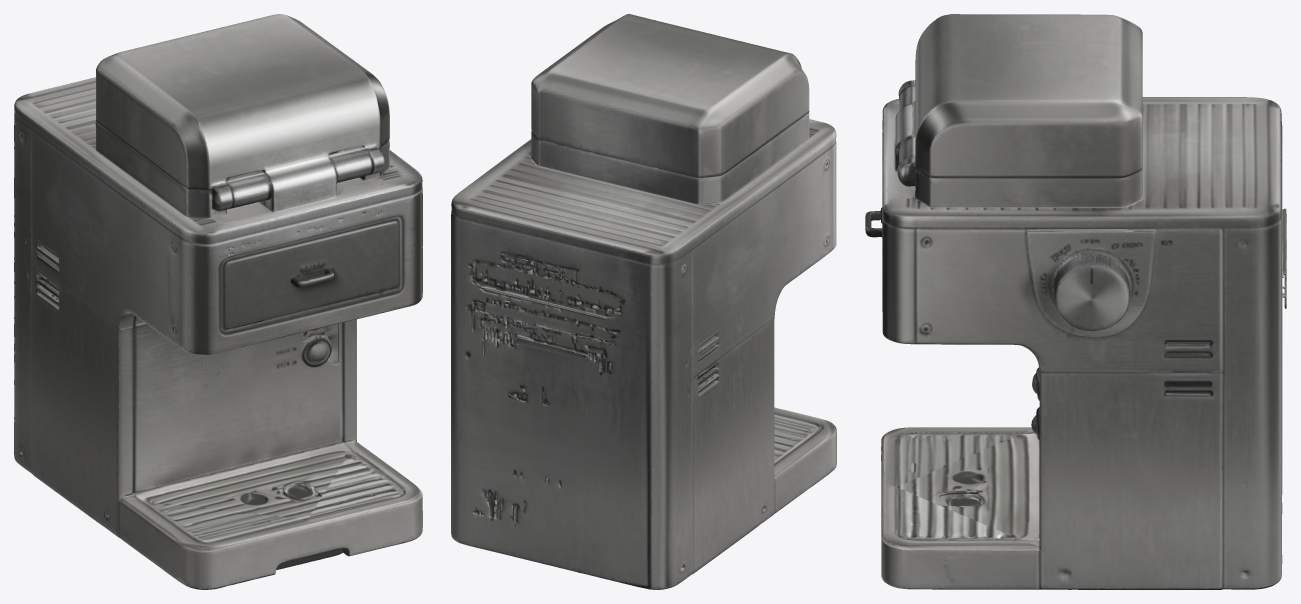
Rendered from espresso-g1-parts.glb.
3 views of the same model, side by side, from view 1: azimuth 30°, elevation 25°; view 2: azimuth 150°, elevation 25°; view 3: azimuth 270°, elevation 25° (orthographic). The views are drawn at different scales.
Size of the model in its own units: 0.2599 by 0.42 by 0.3373.
4 materials, 4 textured.
